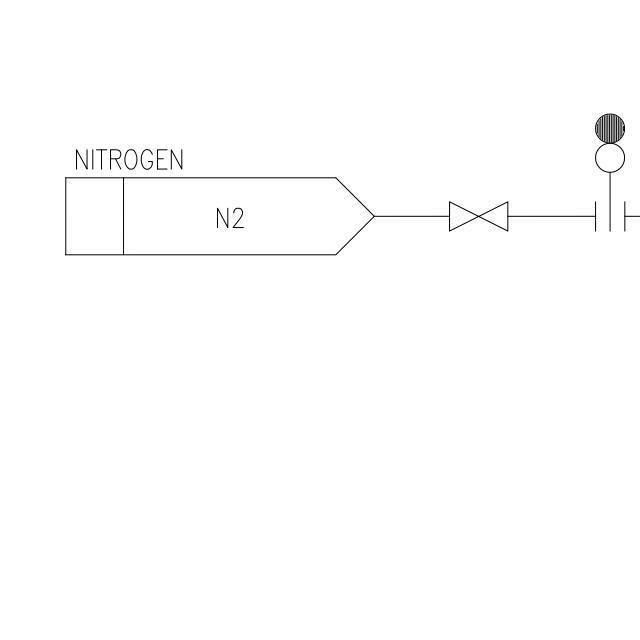GV: (438, 196, 519, 238)
